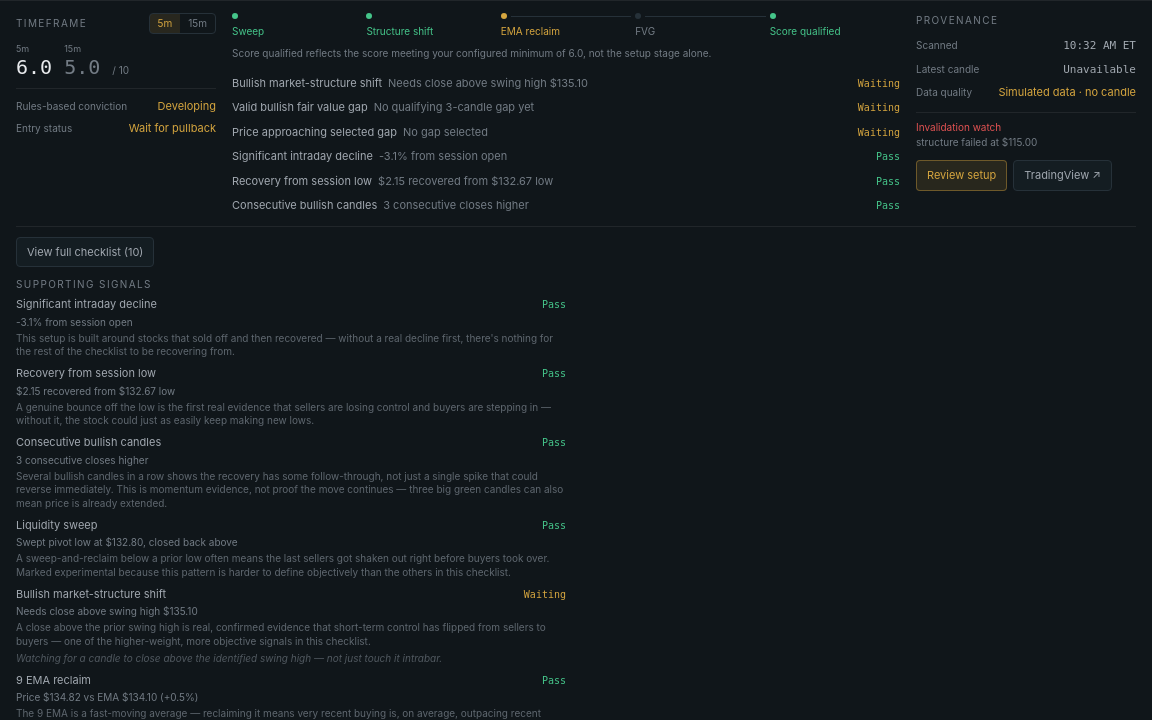
Test case: SetupDetail — full checklist disclosure (Issue 1) › expands on click: label becomes 'Hide full checklist', aria-expanded true, region visible
The width and height of the screenshot is (1152, 720).
Step 1. Click the button "View full checklist (10)" → (85, 252), box [16, 236, 154, 267]
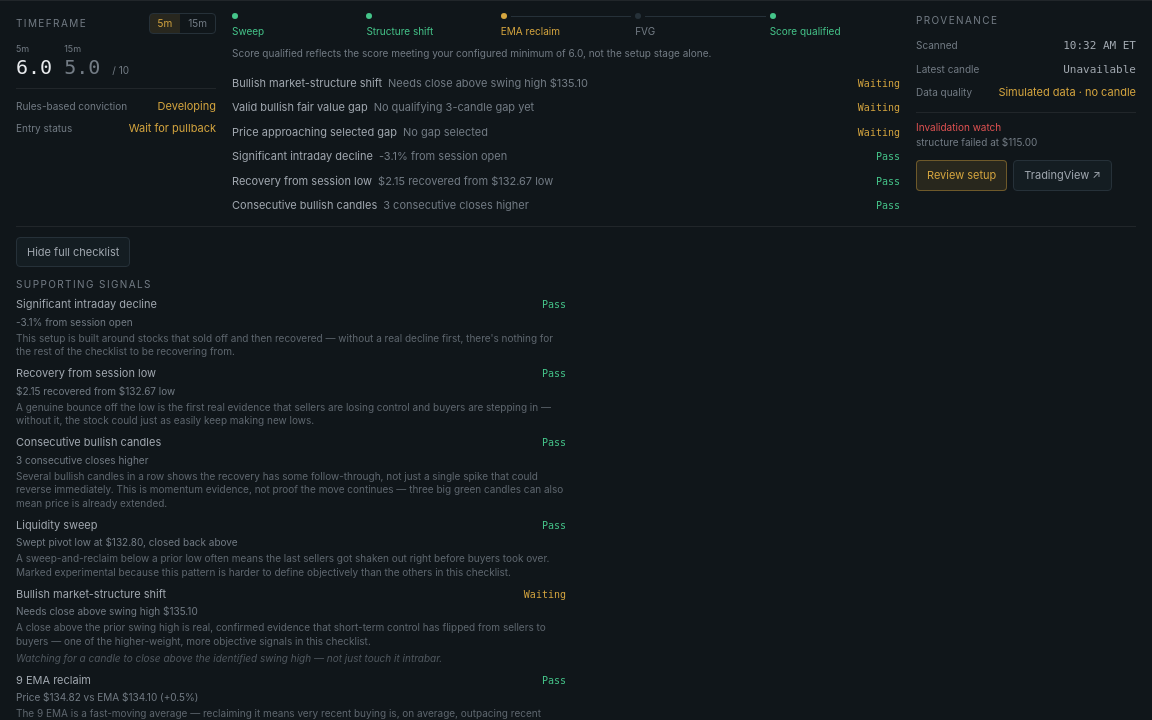
Expected: the button "View full checklist" is gone
Expected: the button "Hide full checklist" is expanded, [16, 236, 130, 267]
